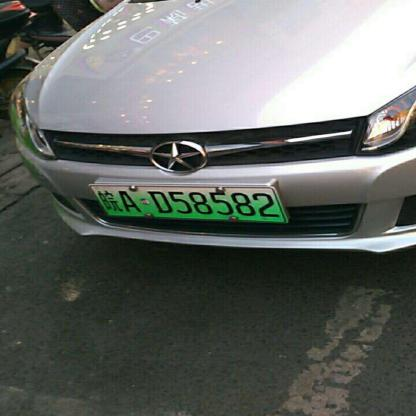lp: (90, 186, 284, 221)
